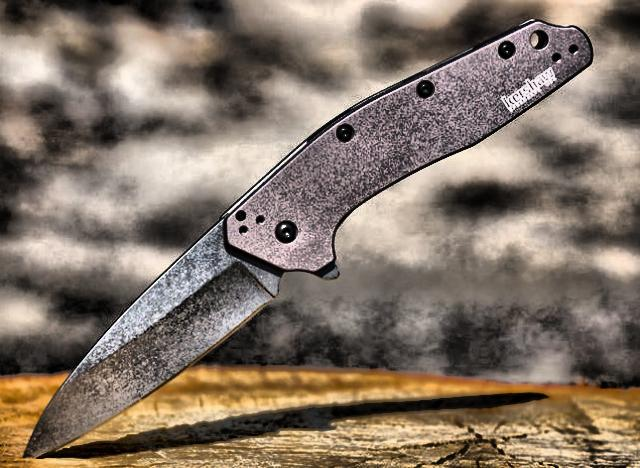knife: (11, 193, 295, 463)
